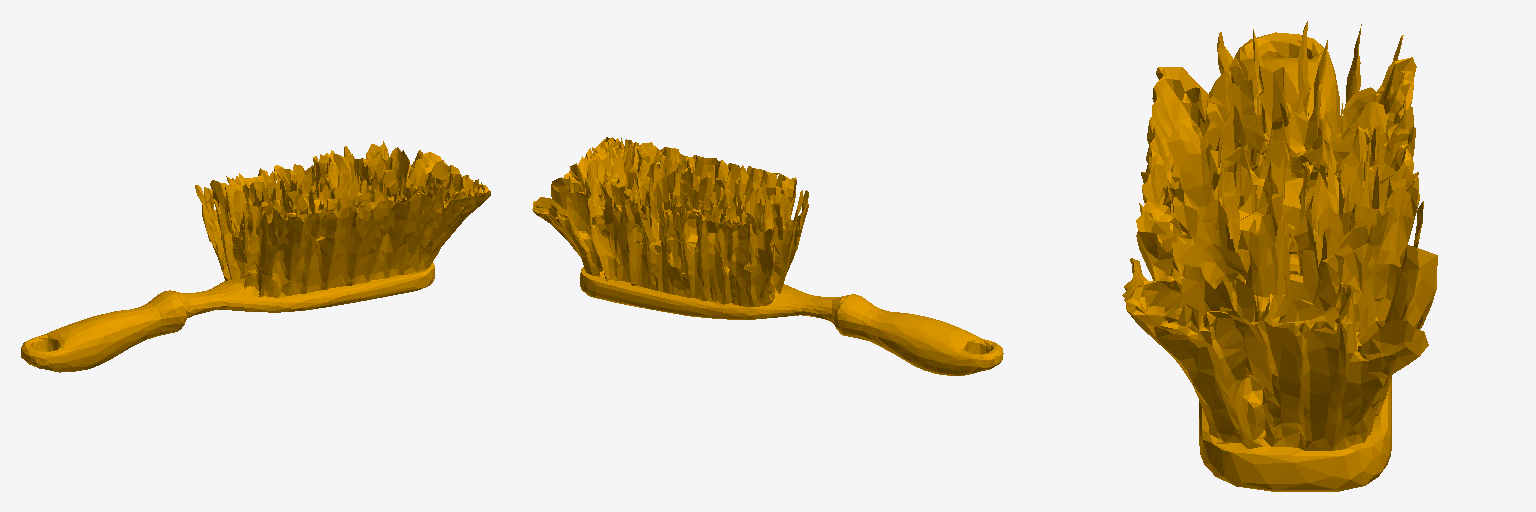
URDF robot description (red_brush_origin_back_2cm):
<?xml version="1.0"?>
<robot name="red_brush_origin_back_2cm">
  <link name="red_brush_origin_back_2cm">
    <visual>
      <origin xyz="0 0 0" rpy="0 0 0"/>
      <geometry>
        <mesh filename="red_brush_origin_back_2cm.obj" scale="1 1 1"/>
      </geometry>
    </visual>
    <collision>
      <origin xyz="0 0 0" rpy="0 0 0"/>
      <geometry>
        <mesh filename="red_brush_origin_back_2cm.obj" scale="1 1 1"/>
      </geometry>
    </collision>
    <inertial>
      <!-- From real world measurement, this is about 115g and CoM is at (0.12, 0, 0) wrt origin -->
      <!-- This density made this object have the correct mass -->
      <density value="115.0"/>
      <origin xyz="0.07 0 0" rpy="0 0 0"/>
    </inertial>
  </link>
</robot>

--- What the picture shows (computed from the rendered views, not written in the file) ---
Views: 3 orthographic renders of the robot side by side, from view 1: azimuth 30°, elevation 25°; view 2: azimuth 150°, elevation 25°; view 3: azimuth 270°, elevation 25°.
Robot: red_brush_origin_back_2cm — 1 links, 0 joints (none); root link red_brush_origin_back_2cm; default pose: all joints at 0.
Visible links, largest first — view 1: red_brush_origin_back_2cm; view 2: red_brush_origin_back_2cm; view 3: red_brush_origin_back_2cm.
Link boxes in pixels (box(x1,y1,x2,y2)): red_brush_origin_back_2cm: box(21, 141, 490, 372); red_brush_origin_back_2cm: box(532, 137, 1003, 375); red_brush_origin_back_2cm: box(1122, 21, 1437, 491).
Bounding box of the posed robot: 0.3191 × 0.095 × 0.0926 m (x, y, z).
1 mesh visuals loaded from 1 distinct referenced files (1 OBJ).
